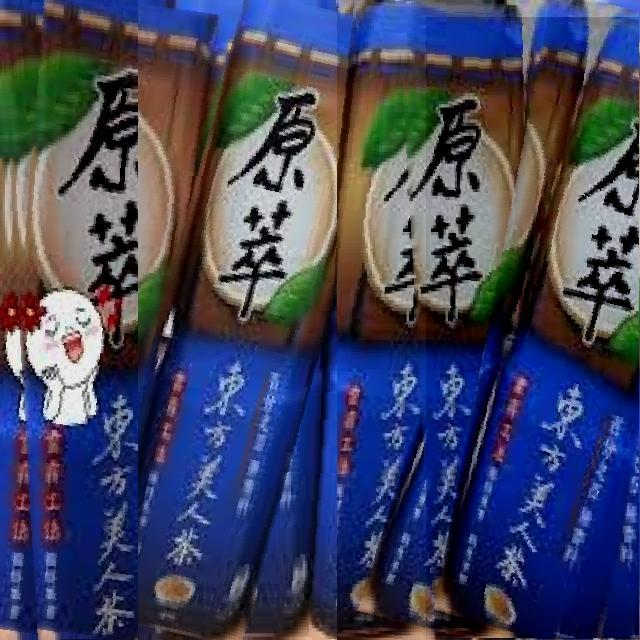YuanTsui_MeiRen: (138, 0, 373, 640), (0, 0, 211, 640), (426, 17, 640, 639), (337, 0, 516, 640)
